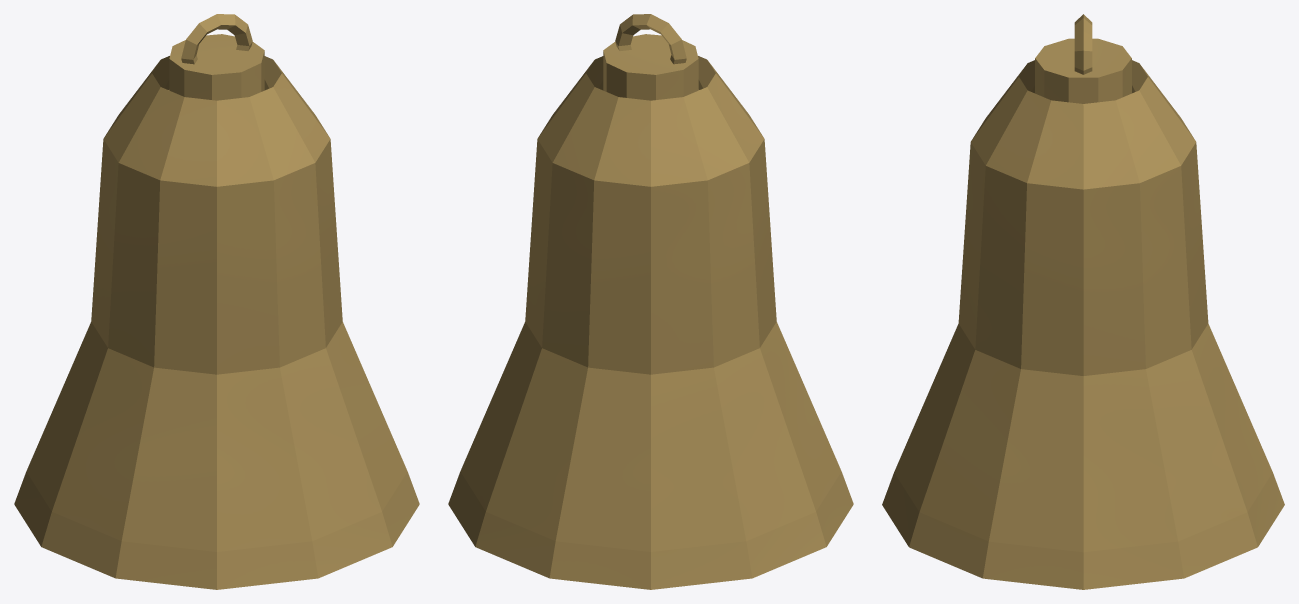
File: WarrensC_WVC077_ServiceBellSmall_Mars_SM.fbx
3 views of the same model, side by side, from view 1: azimuth 30°, elevation 25°; view 2: azimuth 150°, elevation 25°; view 3: azimuth 270°, elevation 25° (orthographic).
Parts seen in each view (by area): view 1: WarrensC_WVC077_ServiceBellSmall_Mars_SM.001; view 2: WarrensC_WVC077_ServiceBellSmall_Mars_SM.001; view 3: WarrensC_WVC077_ServiceBellSmall_Mars_SM.001.
Boxes of the visible parts, x1=… form: WarrensC_WVC077_ServiceBellSmall_Mars_SM.001: x1=14, y1=14, x2=419, y2=589; WarrensC_WVC077_ServiceBellSmall_Mars_SM.001: x1=448, y1=14, x2=853, y2=589; WarrensC_WVC077_ServiceBellSmall_Mars_SM.001: x1=882, y1=14, x2=1284, y2=589.
Bounding box in the file's own units: 45 × 45 × 60.
